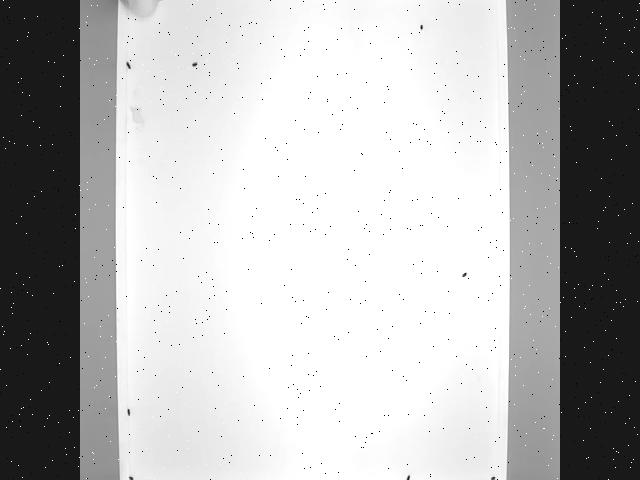Tikus: (116, 0, 208, 18)
